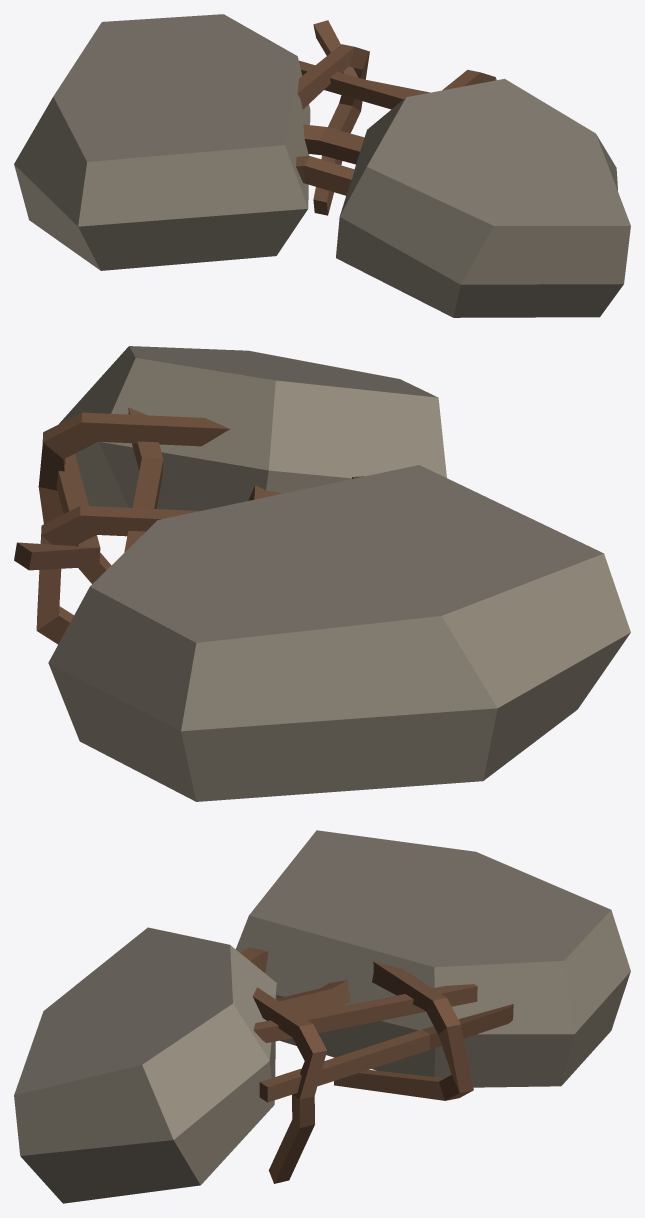
File: SM_Prop_Rubble_Concrete_02.fbx
The picture shows the model from 3 angles, top to bottom: view 1: azimuth 30°, elevation 25°; view 2: azimuth 150°, elevation 25°; view 3: azimuth 270°, elevation 25°; orthographic projection. The views are drawn at different scales.
Visible parts, largest first — view 1: SM_Prop_Rubble_Concrete_02; view 2: SM_Prop_Rubble_Concrete_02; view 3: SM_Prop_Rubble_Concrete_02.
Part boxes in pixels (left/top/right/bottom): SM_Prop_Rubble_Concrete_02: left=14, top=14, right=630, bottom=317; SM_Prop_Rubble_Concrete_02: left=14, top=346, right=630, bottom=801; SM_Prop_Rubble_Concrete_02: left=14, top=830, right=630, bottom=1203.
Size of the model in its own units: 109 by 42.9 by 116.
